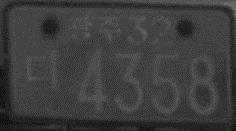2: (151, 15, 175, 49)
3: (113, 50, 145, 113), (125, 13, 149, 47)
4: (76, 48, 110, 114)
5: (149, 51, 181, 117)
8: (186, 53, 220, 118)
광주_O: (66, 13, 122, 43)
다: (25, 48, 65, 92)
